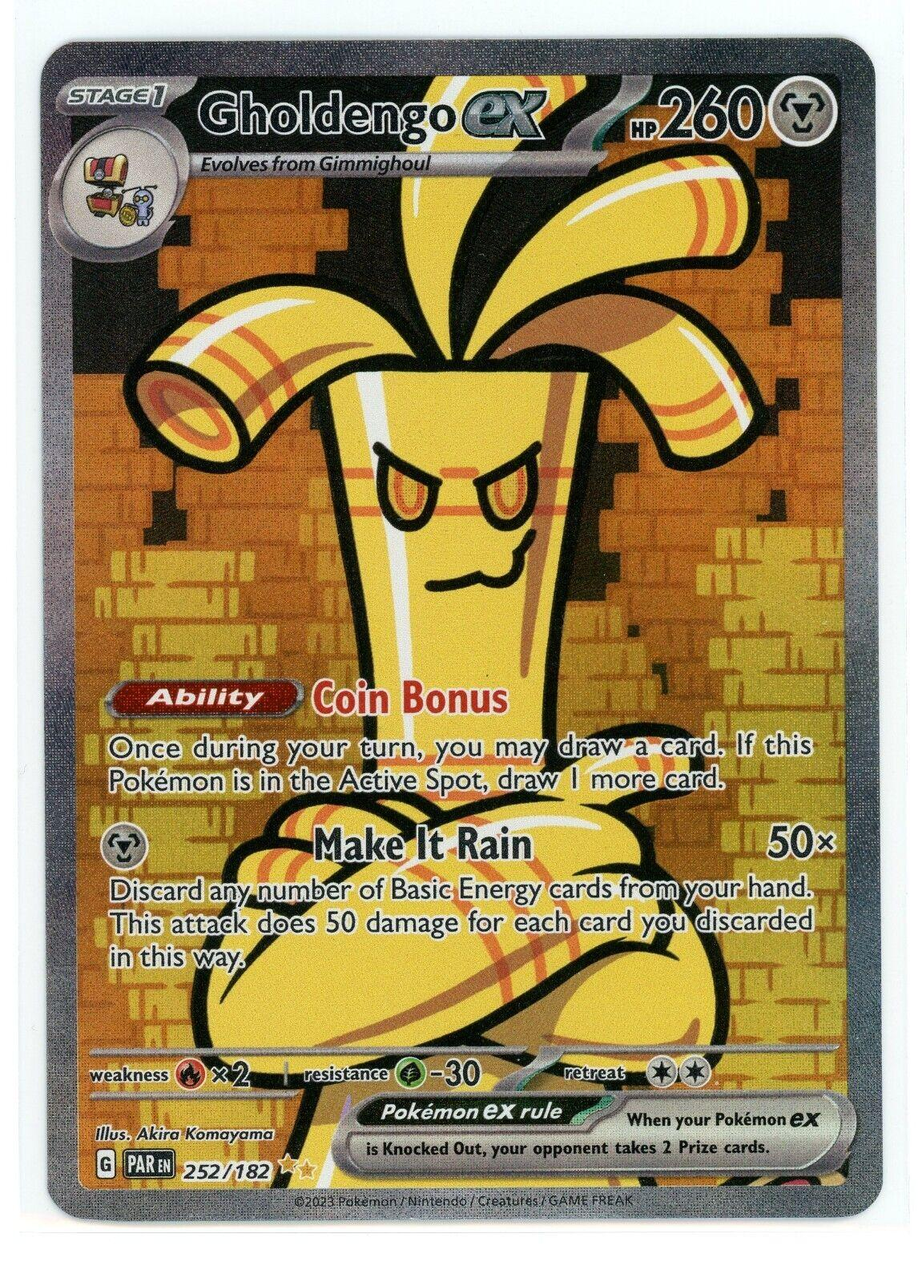card-2UtV: (40, 37, 883, 1221)
